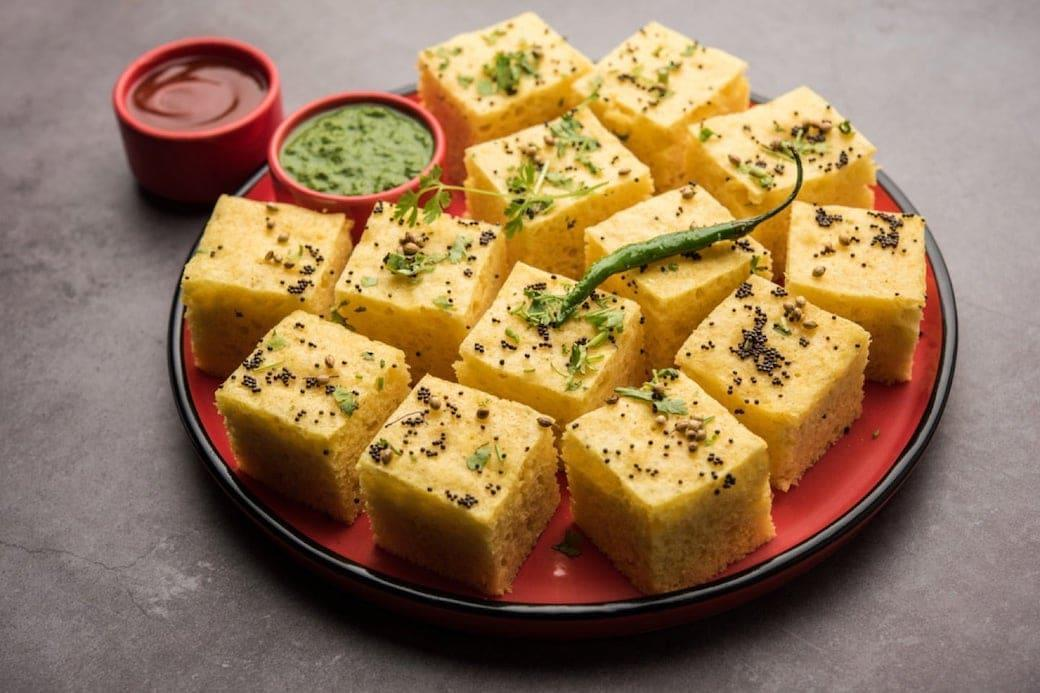dhokla: (216, 45, 872, 586)
